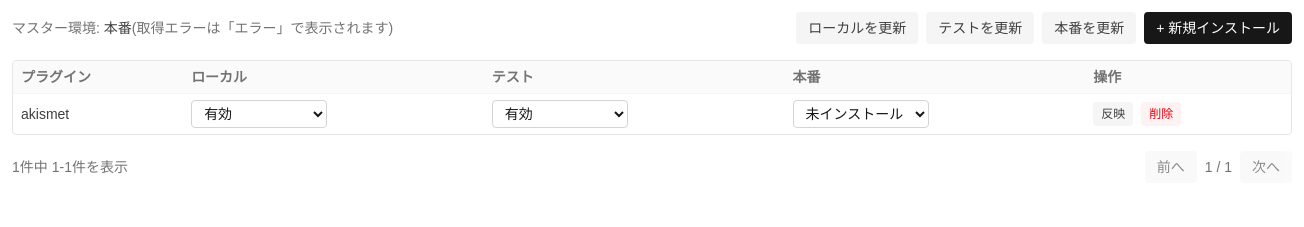
Test: PluginThemeComparisonTable › 反映に失敗するとエラーメッセージを表示する
The width and height of the screenshot is (1304, 227).
Select "有効" in the 3rd dropdown at (860, 114), box left=792, top=100, right=928, bottom=128
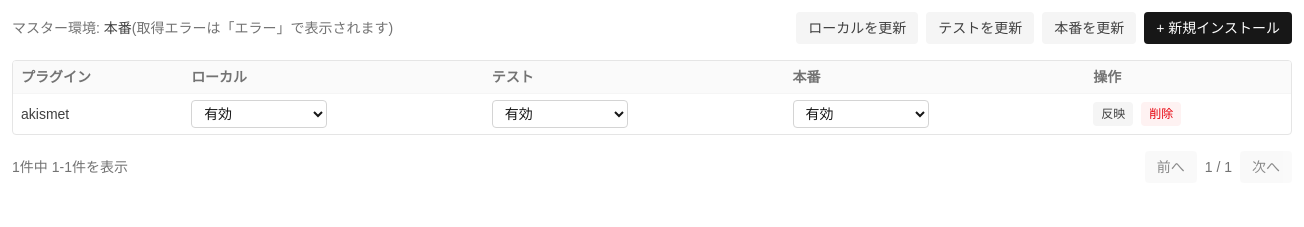
Click the button "反映" at (1113, 114), box left=1093, top=102, right=1133, bottom=126
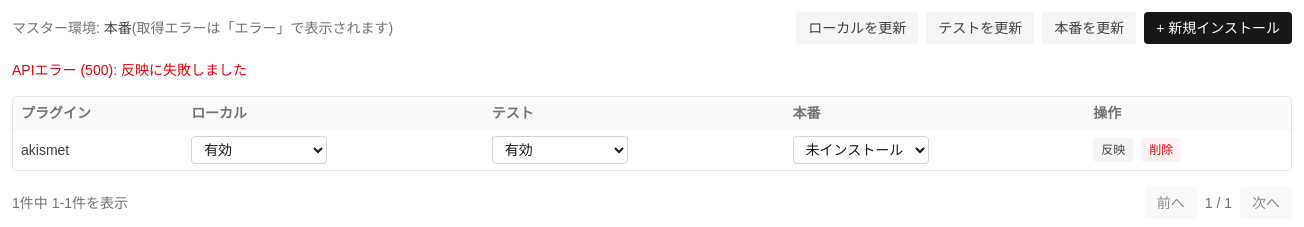
Result: the text "APIエラー (500): 反映に失敗しました" is shown at left=12, top=62, right=247, bottom=78
